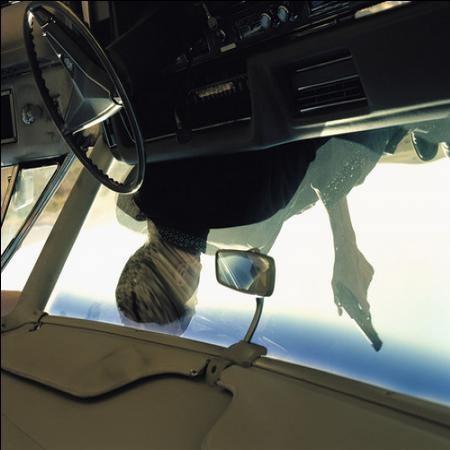Pistol: (330, 259, 382, 354)
